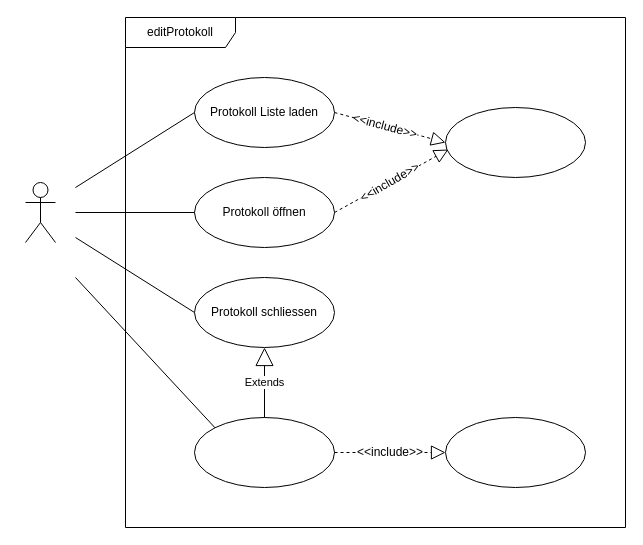
Some shapes in this 643 by 545 pixel diagram are drawn without their labels. The centre of each missing label's shape, as x and y in pixels:
"Betreuer" belongs at point 40,212.
"Eingaben validieren" belongs at point 515,452.
"Protokoll laden" belongs at point 515,142.
"Protokoll speichern" belongs at point 264,452.
